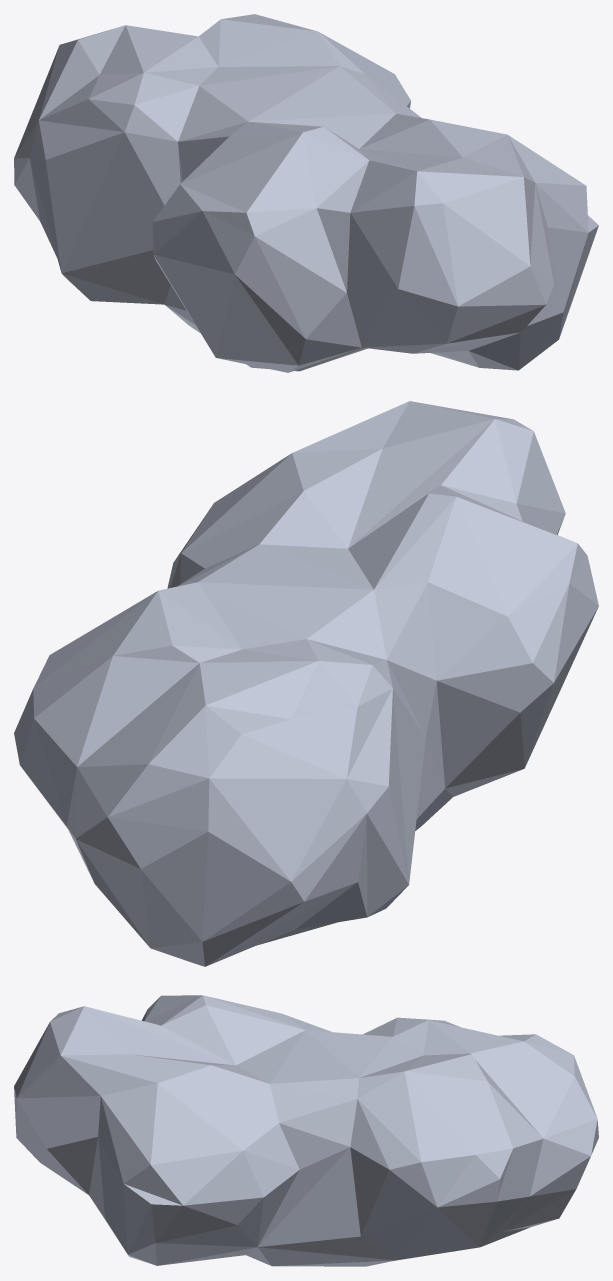
Rendered from brawler_clouds.fbx.
The picture shows the model from 3 angles, top to bottom: view 1: azimuth 30°, elevation 25°; view 2: azimuth 150°, elevation 25°; view 3: azimuth 270°, elevation 25°; orthographic projection. The views are drawn at different scales.
Parts seen in each view (by area): view 1: pPlatonic2; view 2: pPlatonic2; view 3: pPlatonic2.
Part boxes in pixels (x1,y1,x2,y2): pPlatonic2: (14,14,598,372); pPlatonic2: (14,401,598,966); pPlatonic2: (14,995,598,1266).
Size of the model in its own units: 0.0261 by 0.0184 by 0.0431.
